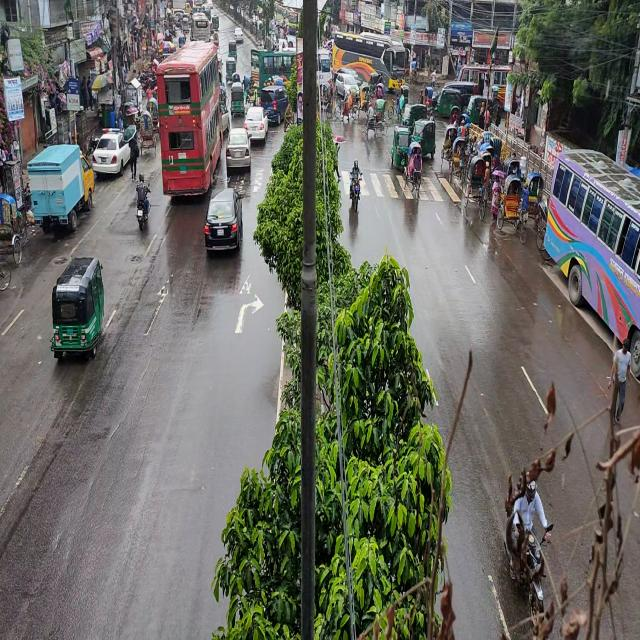black: (206, 188, 242, 256), (226, 127, 252, 173)
blue: (258, 84, 290, 125)
white: (88, 124, 140, 178), (245, 102, 267, 148)
